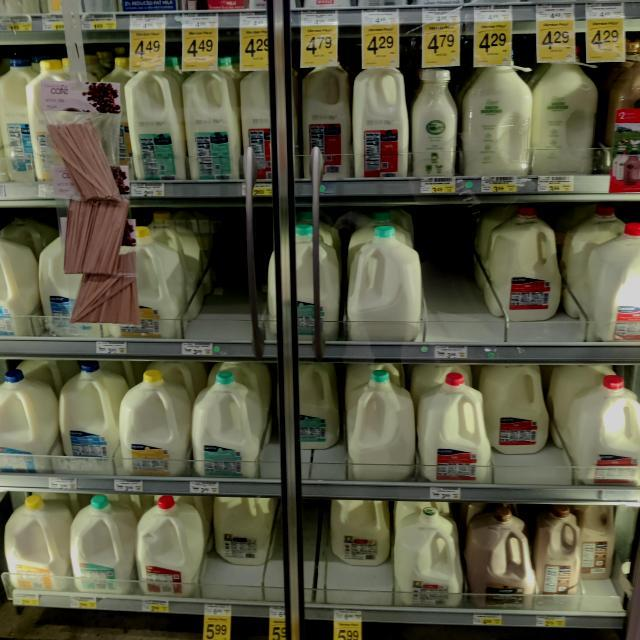Milk: (483, 205, 562, 322), (531, 45, 599, 177), (110, 226, 188, 340), (348, 226, 422, 342), (268, 225, 341, 342), (464, 49, 530, 177), (564, 374, 640, 485), (183, 56, 247, 182), (418, 372, 490, 483), (124, 59, 188, 183), (118, 369, 193, 474), (346, 370, 416, 480), (59, 361, 131, 466), (193, 371, 264, 476), (465, 507, 535, 612), (393, 507, 464, 605), (137, 496, 206, 596), (4, 494, 74, 592), (70, 496, 137, 594), (0, 371, 63, 474), (478, 364, 550, 454), (302, 54, 354, 178), (587, 222, 640, 342), (354, 66, 409, 178), (0, 227, 47, 337), (412, 66, 457, 178), (0, 57, 40, 182), (605, 39, 640, 171), (536, 505, 581, 604), (214, 497, 276, 565), (330, 500, 390, 566)
